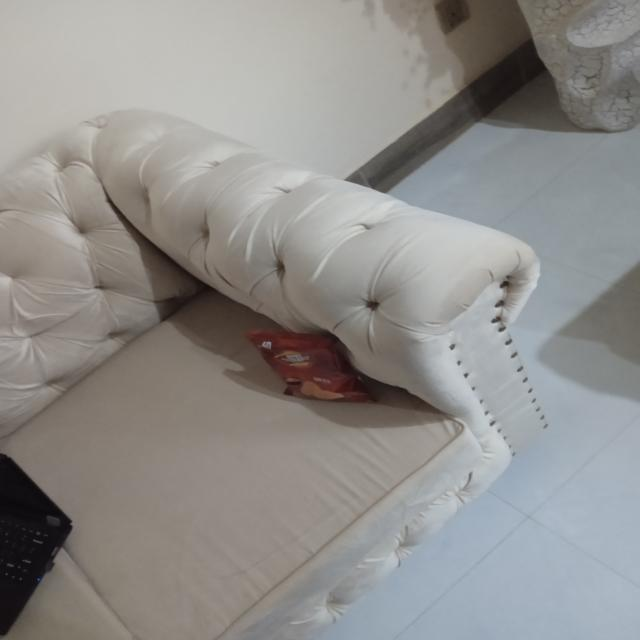Plastic: (246, 326, 368, 404)
